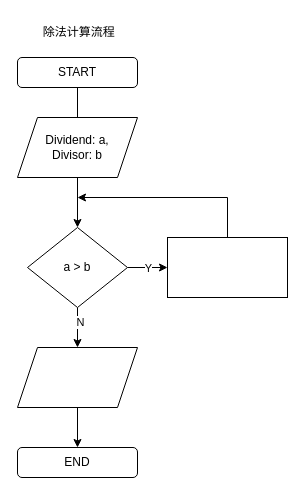
Image size: 305x495. Some labels were removed from this diagram. Each missing label, with the centre of its shape:
"a = a - b" goes at point 227,267.
"Quotient: a" goes at point 77,377.
